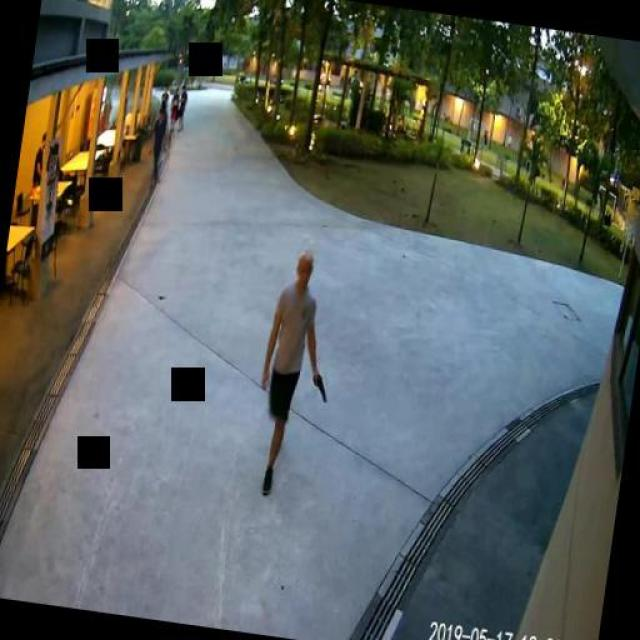gun: (309, 368, 329, 402)
